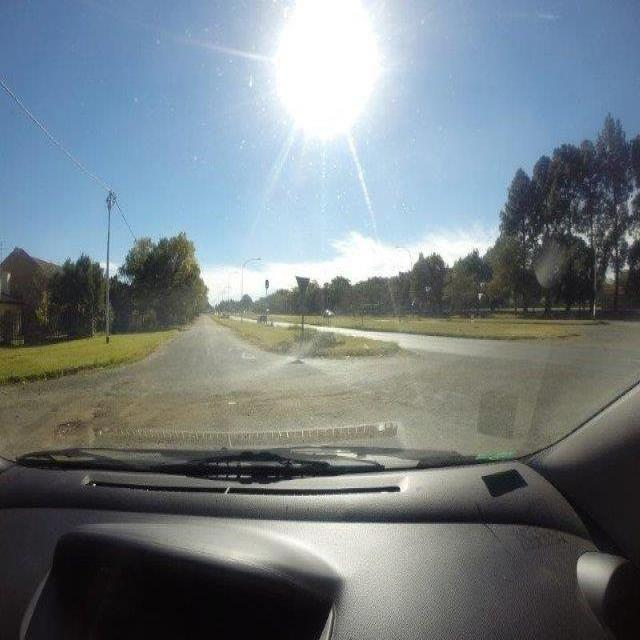jalan retak: (125, 392, 348, 423), (92, 374, 137, 424)
lubang: (47, 414, 96, 446)
